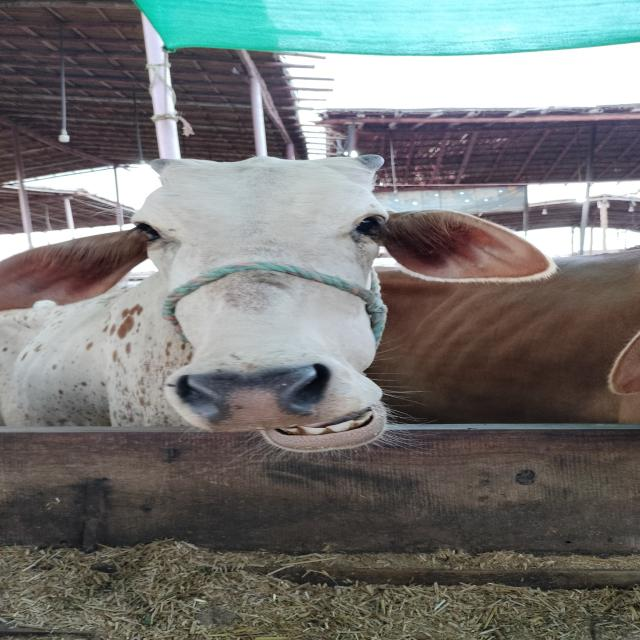muzzles: (156, 360, 356, 431)
